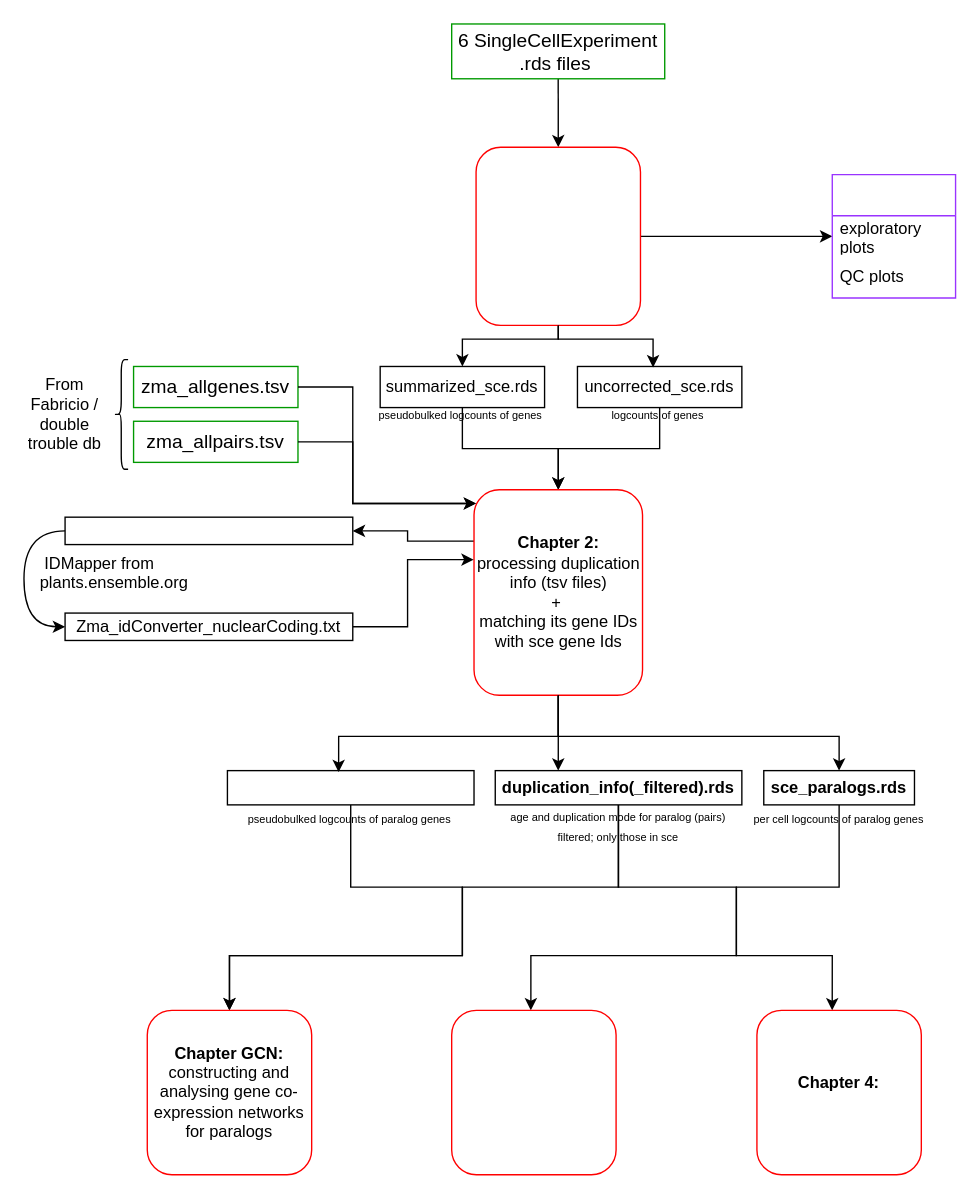
Image size: 980x1199. Some labels were removed from this diagram. The box of each missing label's shape, as (x1, y1, x2, y2) in pixels:
Chapter 1: Preprocessing, QC, data aggregation and pseudobulking: (475, 146, 640, 325)
Chapter 3:: (450, 1009, 616, 1175)
Products: (831, 173, 956, 298)
summarized_sce_paralogs.rds: (226, 769, 474, 805)
Zma_nuclearcoding_geneIDs.txt: (64, 516, 353, 545)
